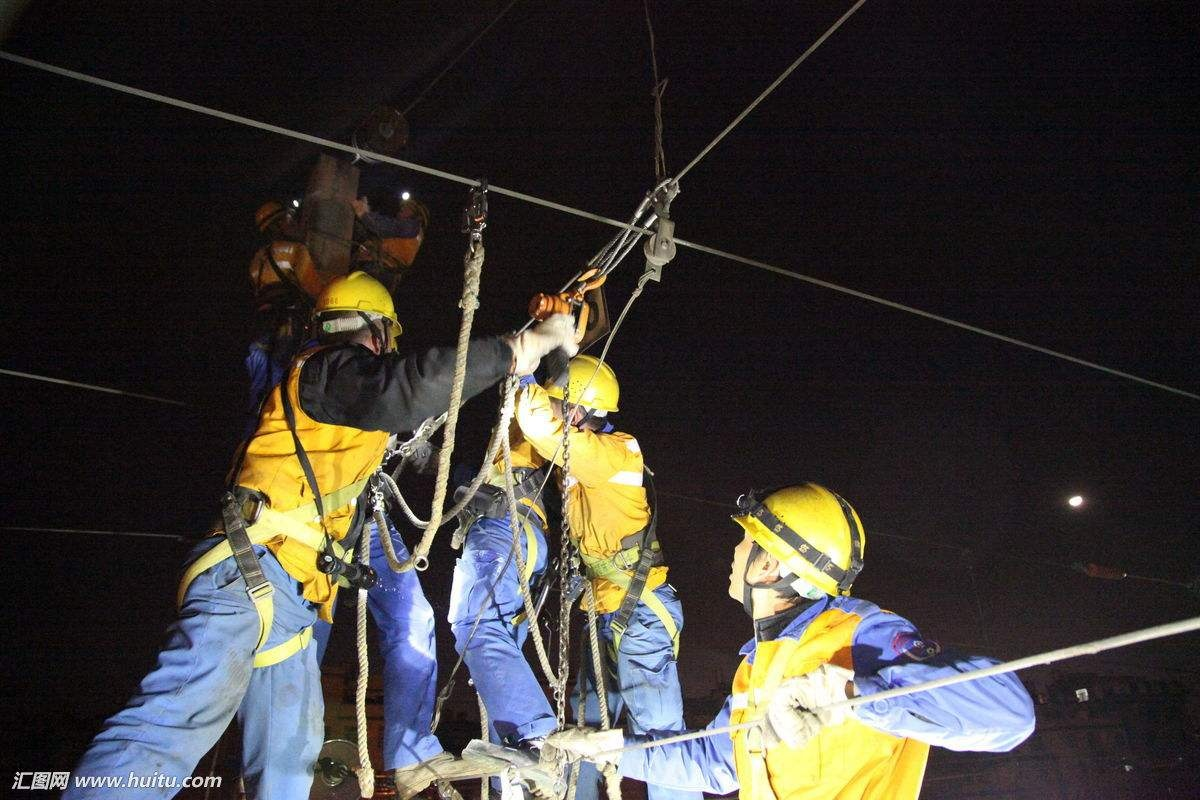yellow: (715, 474, 867, 635), (304, 261, 407, 367), (535, 346, 623, 443)
